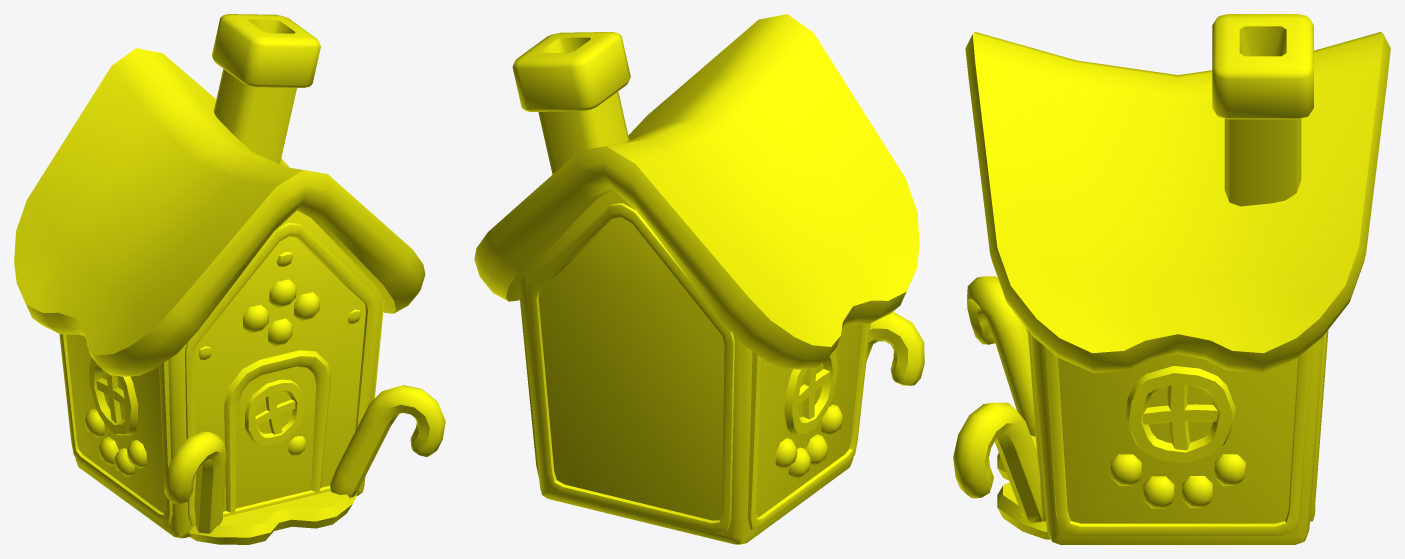
Rendered from kaykit-gingerbread-house.glb.
The picture shows the model from 3 angles, left to right: view 1: azimuth 30°, elevation 25°; view 2: azimuth 150°, elevation 25°; view 3: azimuth 270°, elevation 25°; orthographic projection. The views are drawn at different scales.
Visible parts, largest first — view 1: gingerbread_house; view 2: gingerbread_house; view 3: gingerbread_house.
Boxes of the visible parts, box(x1,y1,x2,y2) form: gingerbread_house: box(14, 14, 445, 544); gingerbread_house: box(474, 14, 924, 544); gingerbread_house: box(953, 14, 1390, 544).
Bounding box in the file's own units: 1.15 × 1.44 × 1.11.
